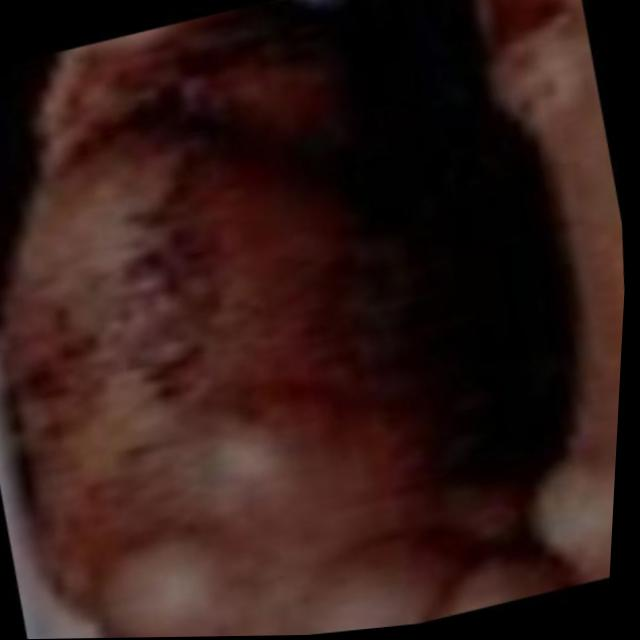Eczema: (0, 40, 637, 640)
